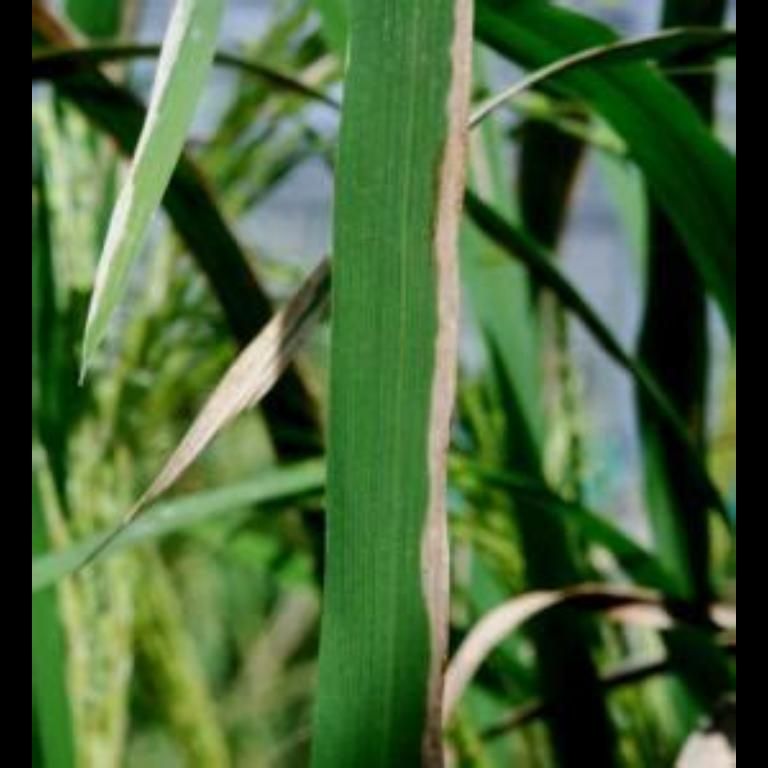blight: (400, 0, 490, 768)
